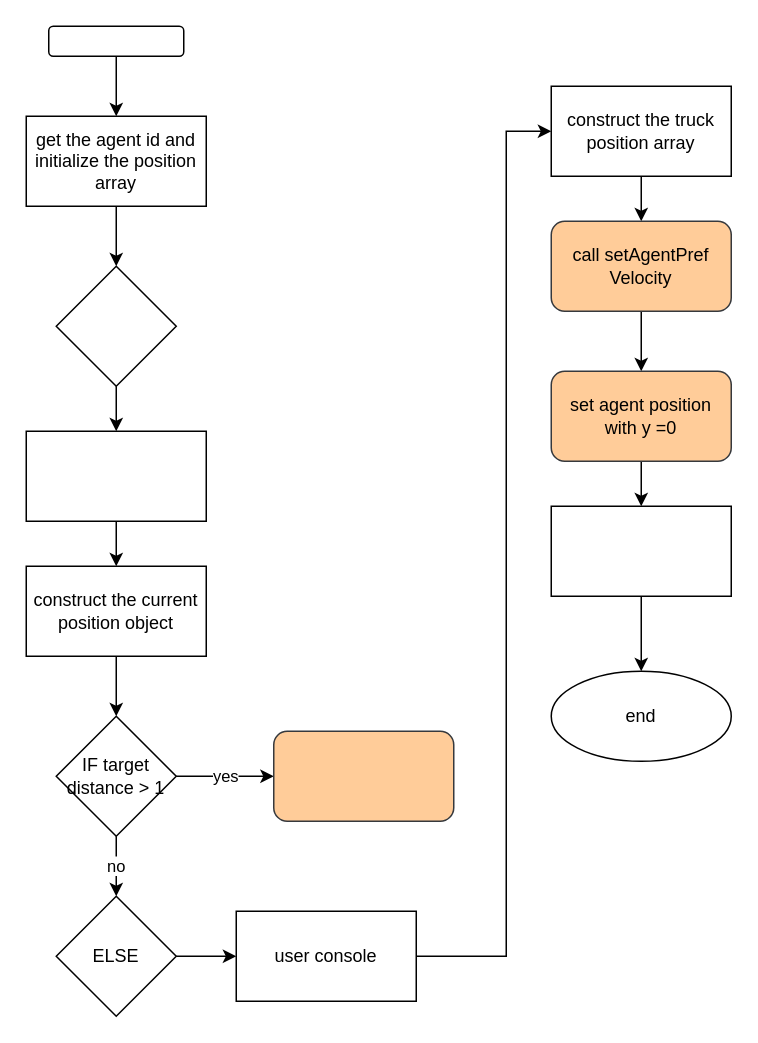
The diagram is 758 pixels wide and 1043 high, and some of its shapes have lost their labels. The centre of each missing label's shape, as x and y in pixels:
calculate the goal distance vector: the point at 115,475
goal vector normalize: the point at 363,775
IF props not rest agent: the point at 115,325
return positon: the point at 640,550
start: the point at 115,40
